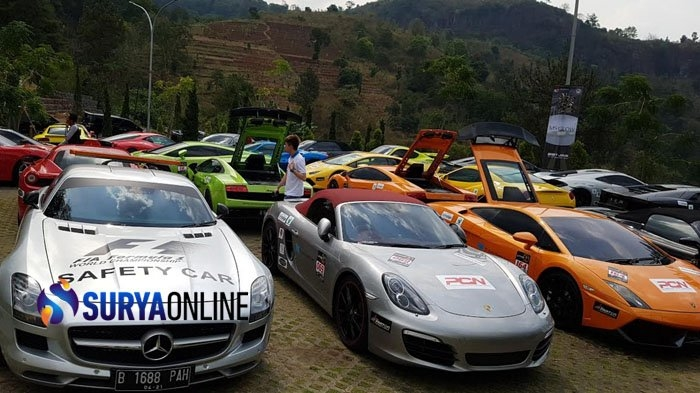plate: (118, 370, 192, 390)
